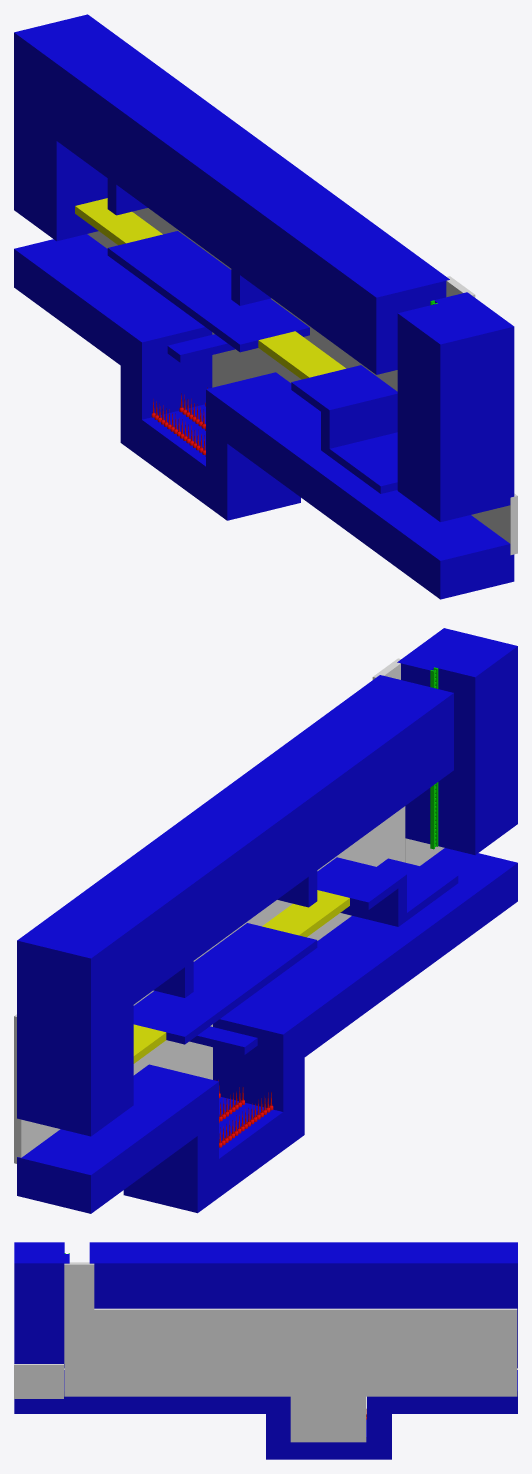
File: Level_3_scene15_colored_bg.fbx
3 renders of one model, top to bottom at view 1: azimuth 30°, elevation 25°; view 2: azimuth 150°, elevation 25°; view 3: azimuth 270°, elevation 25°, orthographic. The views are drawn at different scales.
Visible parts, largest first — view 1: Cube.051, Cube.066, Cube.064, Cube.201, Cube.012, Cube.001, Cube.186, Cube.063, Cube.068, Cube.067, Cone.001; view 2: Cube.051, Cube.066, Cube.201, Cube.064, Cube.012, Cube.063, Cube.001, Cube.067, Cube.068, Cube.003, Cone.001, Cube.186 (+1 smaller); view 3: Cube.051, Cube.201, Cube.186.
Part boxes in pixels (bbox=[...]): Cube.051: bbox=[14, 14, 514, 599]; Cube.066: bbox=[107, 231, 309, 352]; Cube.064: bbox=[291, 365, 397, 493]; Cube.201: bbox=[87, 208, 475, 391]; Cube.012: bbox=[258, 331, 345, 379]; Cube.001: bbox=[75, 198, 162, 245]; Cube.186: bbox=[471, 493, 517, 555]; Cube.063: bbox=[167, 334, 235, 362]; Cube.068: bbox=[107, 178, 147, 215]; Cube.067: bbox=[231, 269, 270, 305]; Cone.001: bbox=[151, 399, 205, 456]; Cube.051: bbox=[17, 628, 517, 1213]; Cube.066: bbox=[133, 923, 317, 1044]; Cube.201: bbox=[14, 658, 405, 1163]; Cube.064: bbox=[317, 857, 458, 926]; Cube.012: bbox=[262, 890, 349, 937]; Cube.063: bbox=[189, 1026, 257, 1054]; Cube.001: bbox=[133, 1024, 166, 1063]; Cube.067: bbox=[277, 870, 317, 907]; Cube.068: bbox=[153, 961, 193, 997]; Cube.003: bbox=[430, 667, 438, 849]; Cone.001: bbox=[219, 1092, 273, 1147]; Cube.186: bbox=[405, 838, 444, 865]; Cube.051: bbox=[14, 1242, 517, 1459]; Cube.201: bbox=[64, 1262, 517, 1442]; Cube.186: bbox=[14, 1363, 63, 1398].
Bounding box in the file's own units: 1048 × 4300 × 10004.
